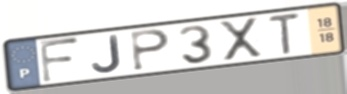3: (178, 24, 216, 65)
F: (37, 36, 83, 85)
J: (90, 33, 124, 75)
P: (129, 28, 172, 73)
T: (266, 11, 303, 57)
X: (216, 16, 265, 63)
